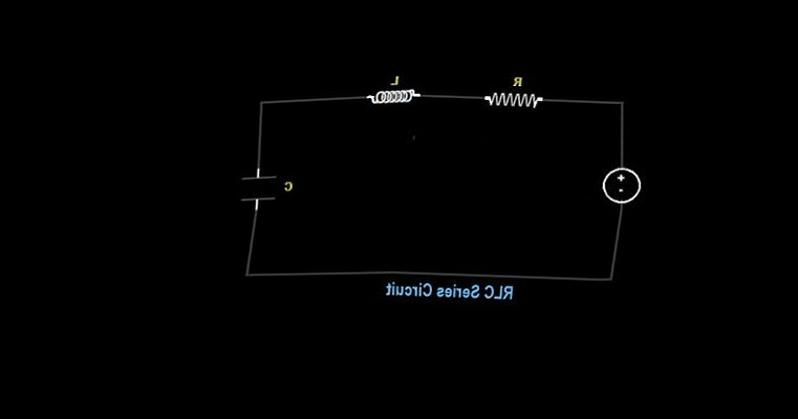Battery: (580, 148, 652, 226)
